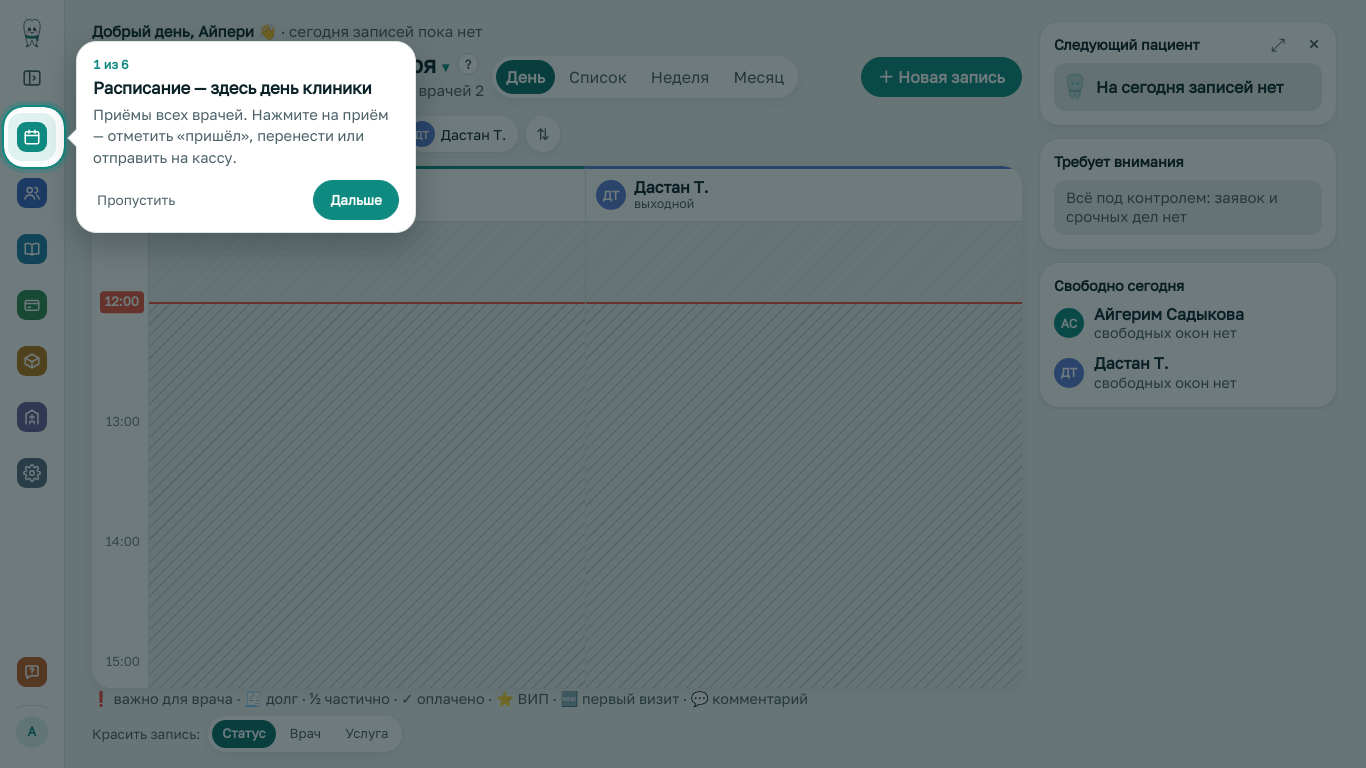
тур — первым: плашки «Заполните профиль» нет, пока тур не пройден; прошли — плашка появилась
The width and height of the screenshot is (1366, 768).
(page scrolled)
What coordinates should you click on to do the following:
click the button "Пропустить"
I would click on:
 (136, 200)
Its box is x1=93 y1=184 x2=179 y2=216.
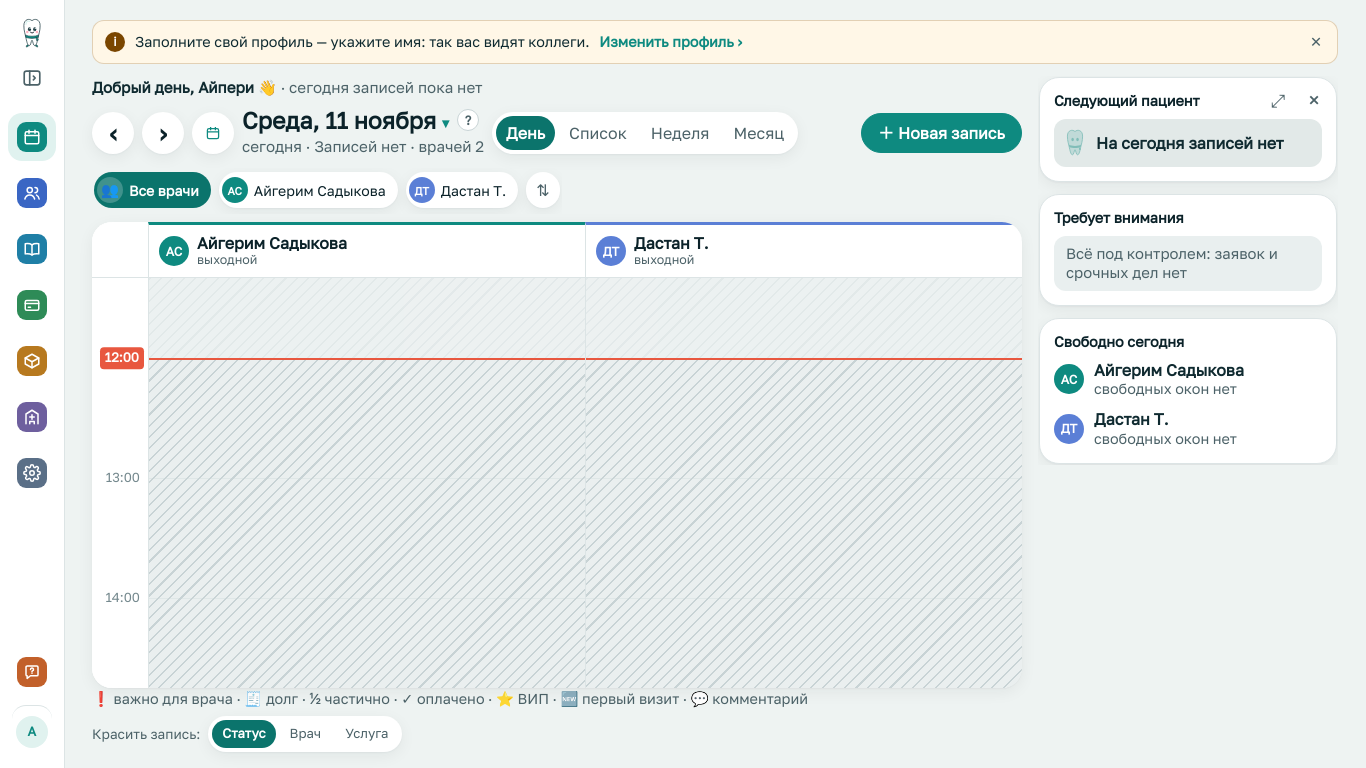
Now the element named "Заполните профиль" is shown, box x1=92 y1=20 x2=1338 y2=64
